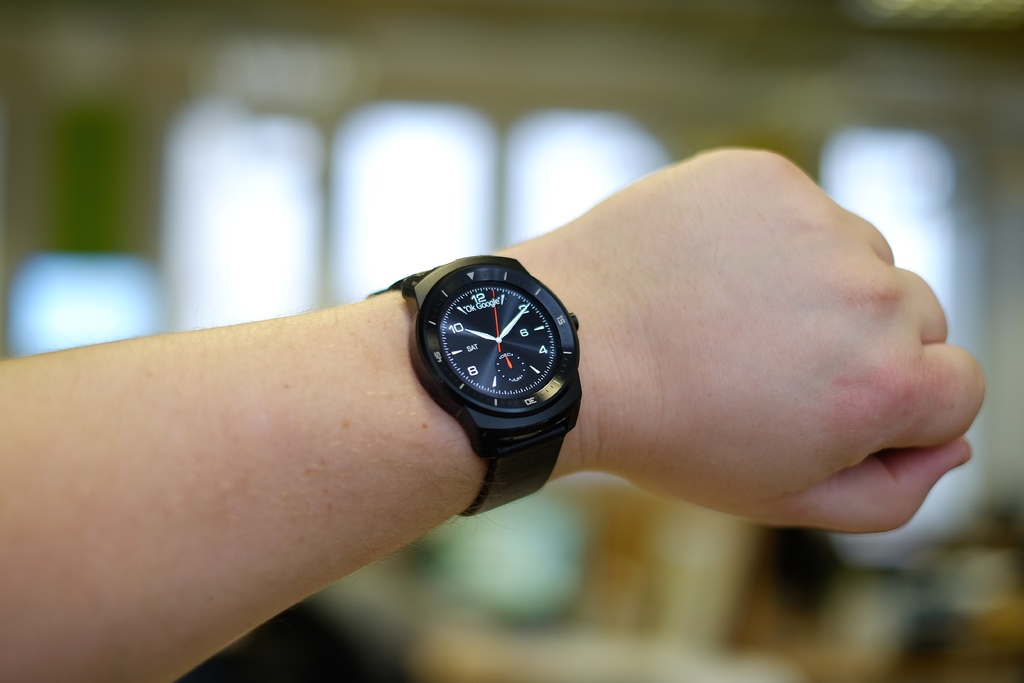watch: (372, 251, 584, 519)
